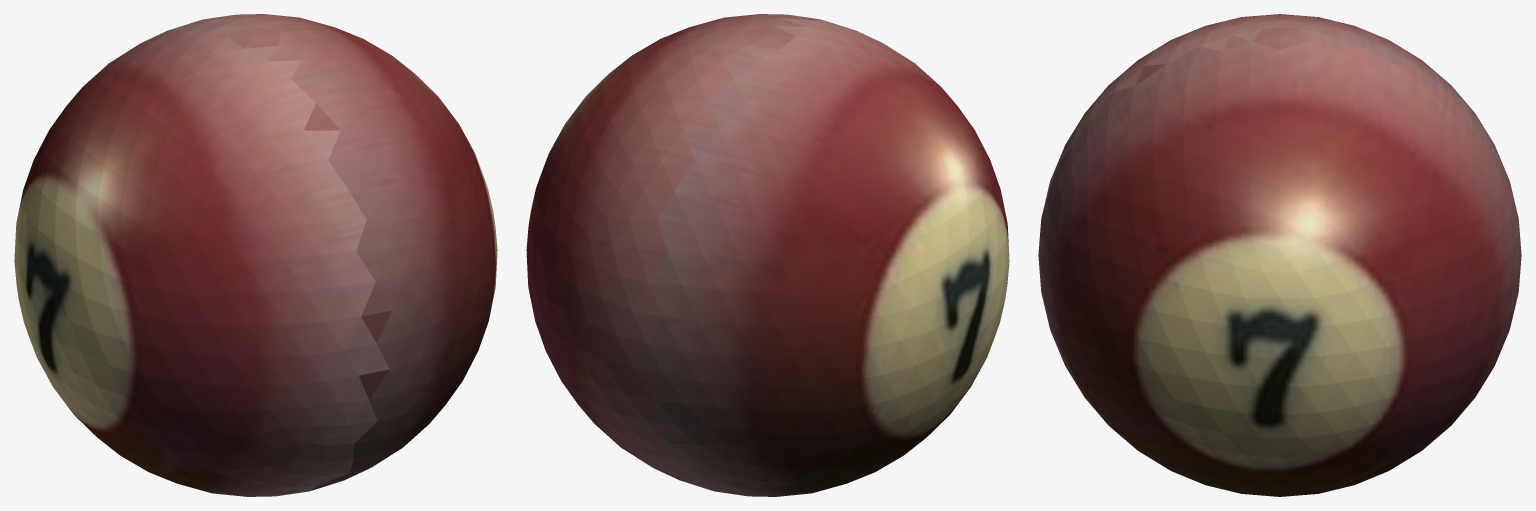
Rendered from balll_7.glb.
The picture shows the model from 3 angles, left to right: view 1: azimuth 30°, elevation 25°; view 2: azimuth 150°, elevation 25°; view 3: azimuth 270°, elevation 25°; orthographic projection.
Visible parts, largest first — view 1: Ball_1; view 2: Ball_1; view 3: Ball_1.
Boxes of the visible parts, left/top/right/bottom form: Ball_1: left=14, top=14, right=497, bottom=496; Ball_1: left=526, top=14, right=1009, bottom=496; Ball_1: left=1038, top=14, right=1521, bottom=496.
Bounding box in the file's own units: 2 × 2 × 2.
1 material, 1 textured.
